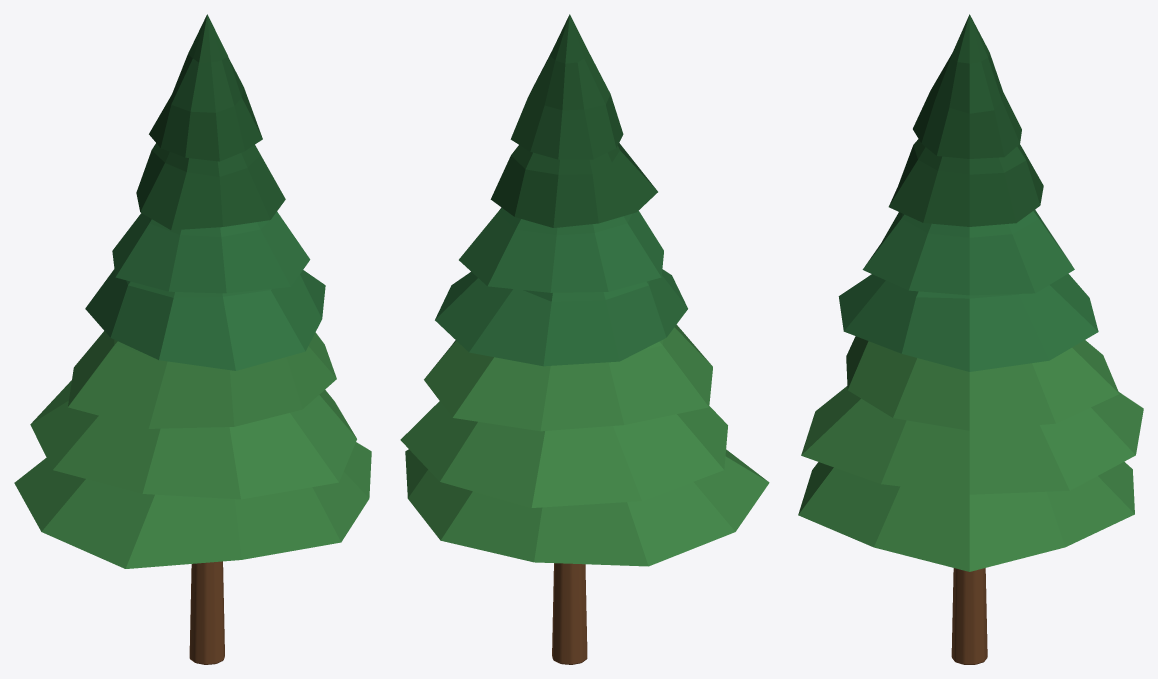
File: pine_tree_1.fbx
3 views of the same model, side by side, from view 1: azimuth 30°, elevation 25°; view 2: azimuth 150°, elevation 25°; view 3: azimuth 270°, elevation 25° (orthographic).
Parts seen in each view (by area): view 1: Pine Foliage Layer 0, Pine Foliage Layer 1, Pine Foliage Layer 2, Pine Foliage Layer 3, Pine Foliage Layer 4, Pine Foliage Layer 5, Pine Foliage Layer 6, Pine Tree - Trunk; view 2: Pine Foliage Layer 1, Pine Foliage Layer 0, Pine Foliage Layer 2, Pine Foliage Layer 3, Pine Foliage Layer 4, Pine Foliage Layer 5, Pine Foliage Layer 6, Pine Tree - Trunk; view 3: Pine Foliage Layer 1, Pine Foliage Layer 0, Pine Foliage Layer 3, Pine Foliage Layer 2, Pine Foliage Layer 4, Pine Foliage Layer 5, Pine Foliage Layer 6, Pine Tree - Trunk.
Part boxes in pixels (box(x1,y1,x2,y2)): Pine Foliage Layer 0: box(14, 442, 371, 568); Pine Foliage Layer 1: box(30, 380, 356, 499); Pine Foliage Layer 2: box(68, 331, 336, 428); Pine Foliage Layer 3: box(85, 269, 325, 370); Pine Foliage Layer 4: box(112, 211, 310, 293); Pine Foliage Layer 5: box(136, 143, 285, 230); Pine Foliage Layer 6: box(149, 14, 262, 161); Pine Tree - Trunk: box(189, 561, 224, 664); Pine Foliage Layer 1: box(400, 401, 727, 507); Pine Foliage Layer 0: box(405, 449, 769, 566); Pine Foliage Layer 2: box(424, 324, 712, 431); Pine Foliage Layer 3: box(435, 269, 687, 366); Pine Foliage Layer 4: box(459, 207, 663, 292); Pine Foliage Layer 5: box(490, 143, 657, 227); Pine Foliage Layer 6: box(510, 14, 623, 159); Pine Tree - Trunk: box(552, 563, 587, 664); Pine Foliage Layer 1: box(801, 386, 1143, 494); Pine Foliage Layer 0: box(798, 461, 1134, 571); Pine Foliage Layer 3: box(838, 273, 1098, 371); Pine Foliage Layer 2: box(846, 336, 1119, 430); Pine Foliage Layer 4: box(862, 210, 1074, 295); Pine Foliage Layer 5: box(888, 139, 1043, 226); Pine Foliage Layer 6: box(913, 14, 1021, 158); Pine Tree - Trunk: box(951, 568, 987, 664).
Size of what is drawn, in the model's own units: 519 by 967 by 470.
